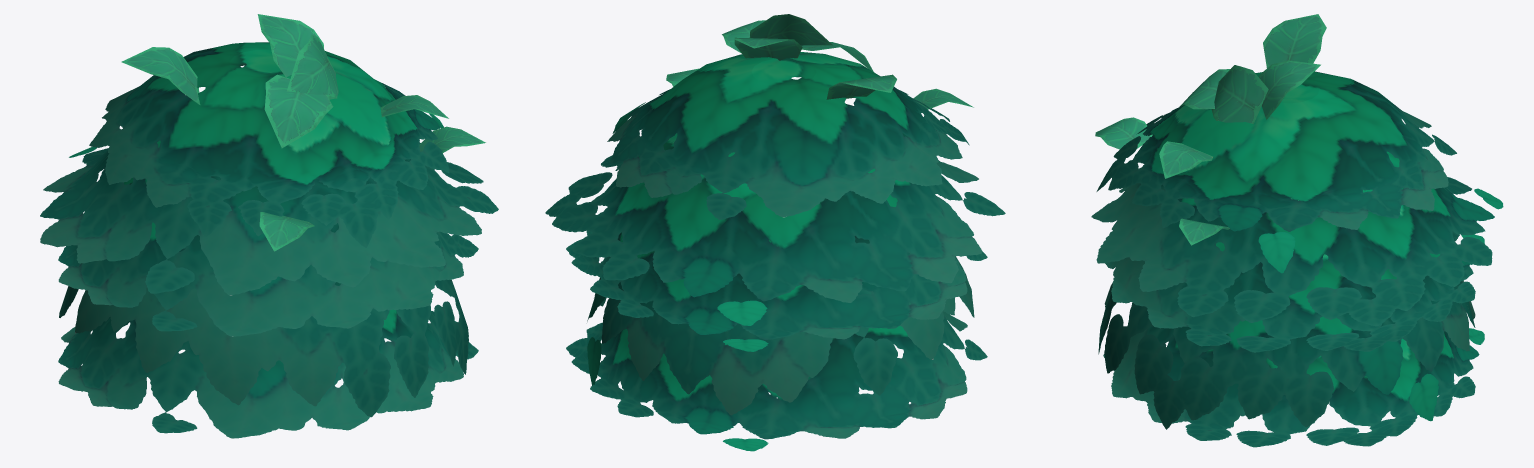
File: Bush09.fbx
3 views of the same model, side by side, from view 1: azimuth 30°, elevation 25°; view 2: azimuth 150°, elevation 25°; view 3: azimuth 270°, elevation 25° (orthographic). The views are drawn at different scales.
Visible parts, largest first — view 1: HibiscusBush; view 2: HibiscusBush; view 3: HibiscusBush.
Boxes of the visible parts, x1,y1,x2,y2 form: HibiscusBush: (40, 14, 498, 438); HibiscusBush: (545, 14, 1005, 451); HibiscusBush: (1091, 14, 1503, 447).
Size of the model in its own units: 127 by 94.39 by 127.
